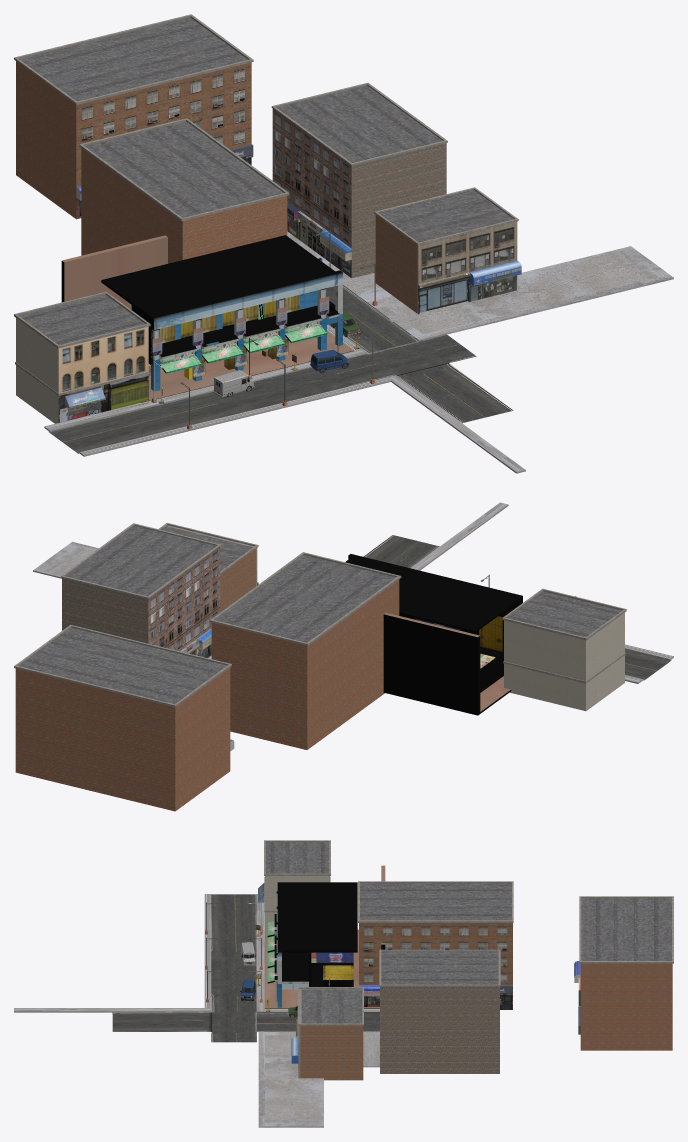
The model's file is Market.glb.
3 renders of one model, top to bottom at view 1: azimuth 30°, elevation 25°; view 2: azimuth 150°, elevation 25°; view 3: azimuth 270°, elevation 25°, orthographic. The views are drawn at different scales.
Parts seen in each view (by area): view 1: Building_05, Cube, Building_03, Building_05.001, Road, Building_09, Building_08, Sidewalk.001, Sidewalk.002, Sidewalk, Car8; view 2: Building_05, Building_05.001, Building_03, Cube, Building_08, Building_09, Road, Sidewalk.002, Sidewalk.001; view 3: Building_03, Building_05, Building_05.001, Cube, Road, Building_09, Sidewalk.001, Building_08, Sidewalk.002, Sidewalk.
Boxes of the visible parts, bbox=[...] form: Building_05: bbox=[14, 14, 253, 219]; Cube: bbox=[61, 235, 353, 402]; Building_03: bbox=[271, 82, 447, 278]; Building_05.001: bbox=[79, 118, 289, 263]; Road: bbox=[48, 286, 513, 453]; Building_09: bbox=[374, 187, 521, 314]; Building_08: bbox=[14, 291, 150, 423]; Sidewalk.001: bbox=[287, 231, 673, 340]; Sidewalk.002: bbox=[79, 375, 525, 473]; Sidewalk: bbox=[44, 325, 366, 431]; Car8: bbox=[213, 370, 254, 397]; Building_05: bbox=[14, 624, 234, 811]; Building_05.001: bbox=[210, 552, 401, 749]; Building_03: bbox=[61, 523, 221, 657]; Cube: bbox=[345, 554, 522, 715]; Building_08: bbox=[502, 588, 626, 711]; Building_09: bbox=[158, 523, 258, 612]; Road: bbox=[363, 535, 671, 680]; Sidewalk.002: bbox=[410, 502, 673, 660]; Sidewalk.001: bbox=[33, 541, 211, 658]; Building_03: bbox=[379, 949, 500, 1073]; Building_05: bbox=[574, 896, 673, 1050]; Building_05.001: bbox=[358, 881, 513, 1009]; Cube: bbox=[264, 865, 385, 1008]; Road: bbox=[112, 894, 379, 1042]; Building_09: bbox=[291, 987, 363, 1080]; Sidewalk.001: bbox=[258, 1032, 379, 1127]; Building_08: bbox=[258, 840, 330, 932]; Sidewalk.002: bbox=[14, 894, 211, 1012]; Sidewalk: bbox=[256, 894, 379, 1012].
Bounding box in the file's own units: 105 × 18.82 × 126.
91 materials, 81 textured.
